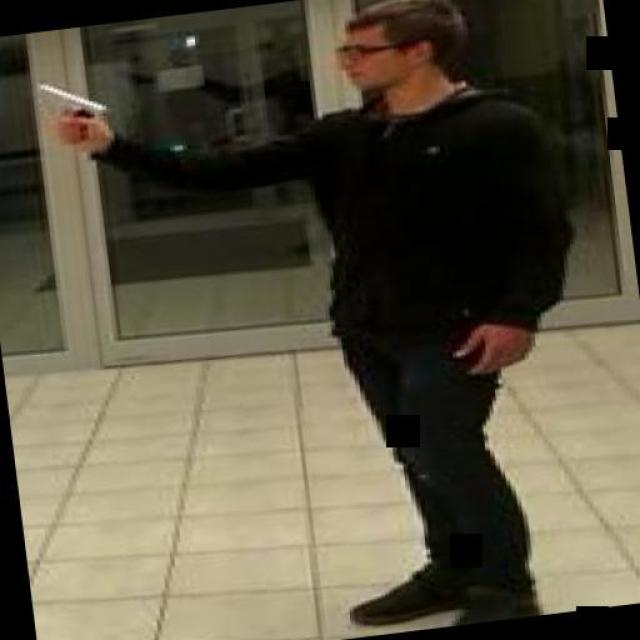gun: (27, 68, 115, 152)
